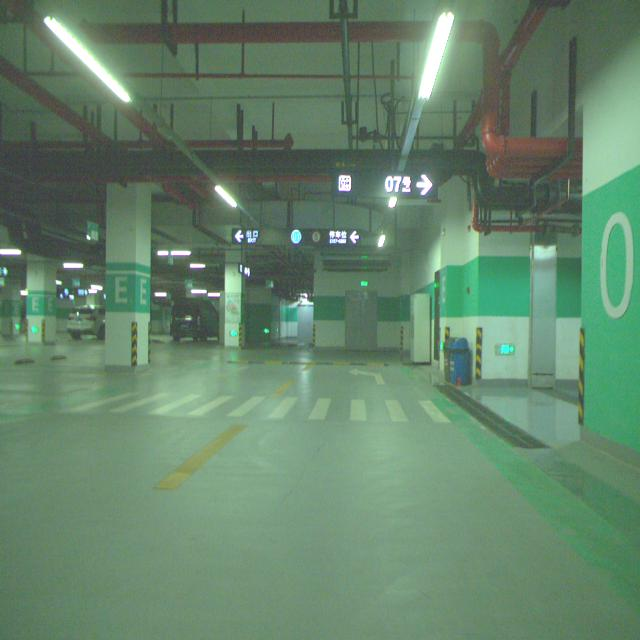pillar: (105, 183, 151, 370), (28, 255, 56, 344)
wall: (439, 188, 462, 379)
